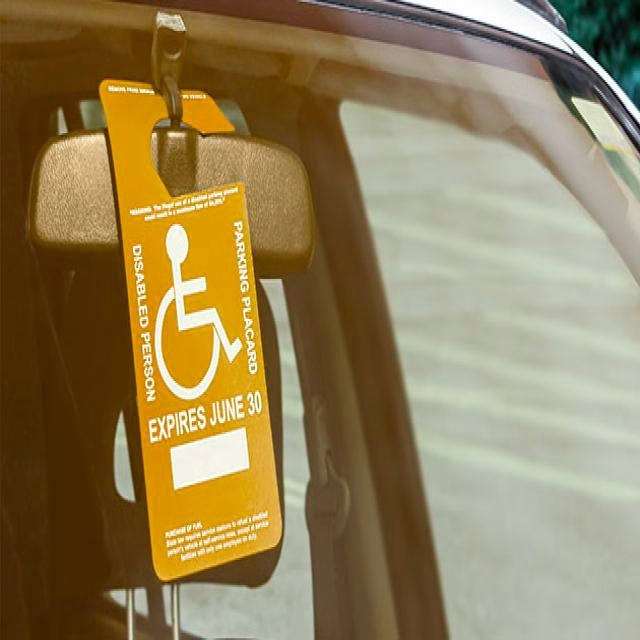ISA: (144, 218, 250, 407)
